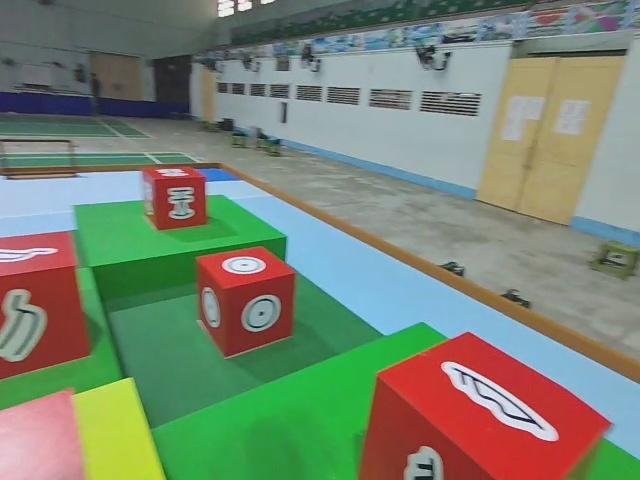R2 Real: (355, 329, 614, 480), (0, 226, 92, 383), (195, 241, 298, 359), (140, 164, 209, 232)
